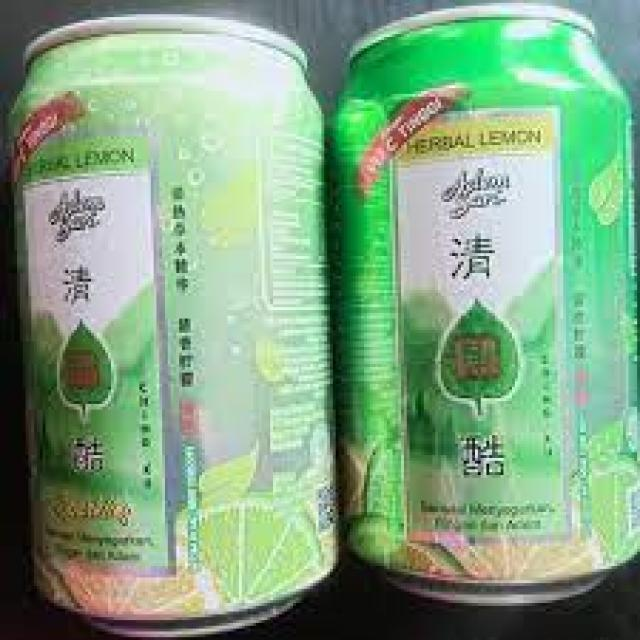ademsarikaleng: (330, 0, 637, 606)
